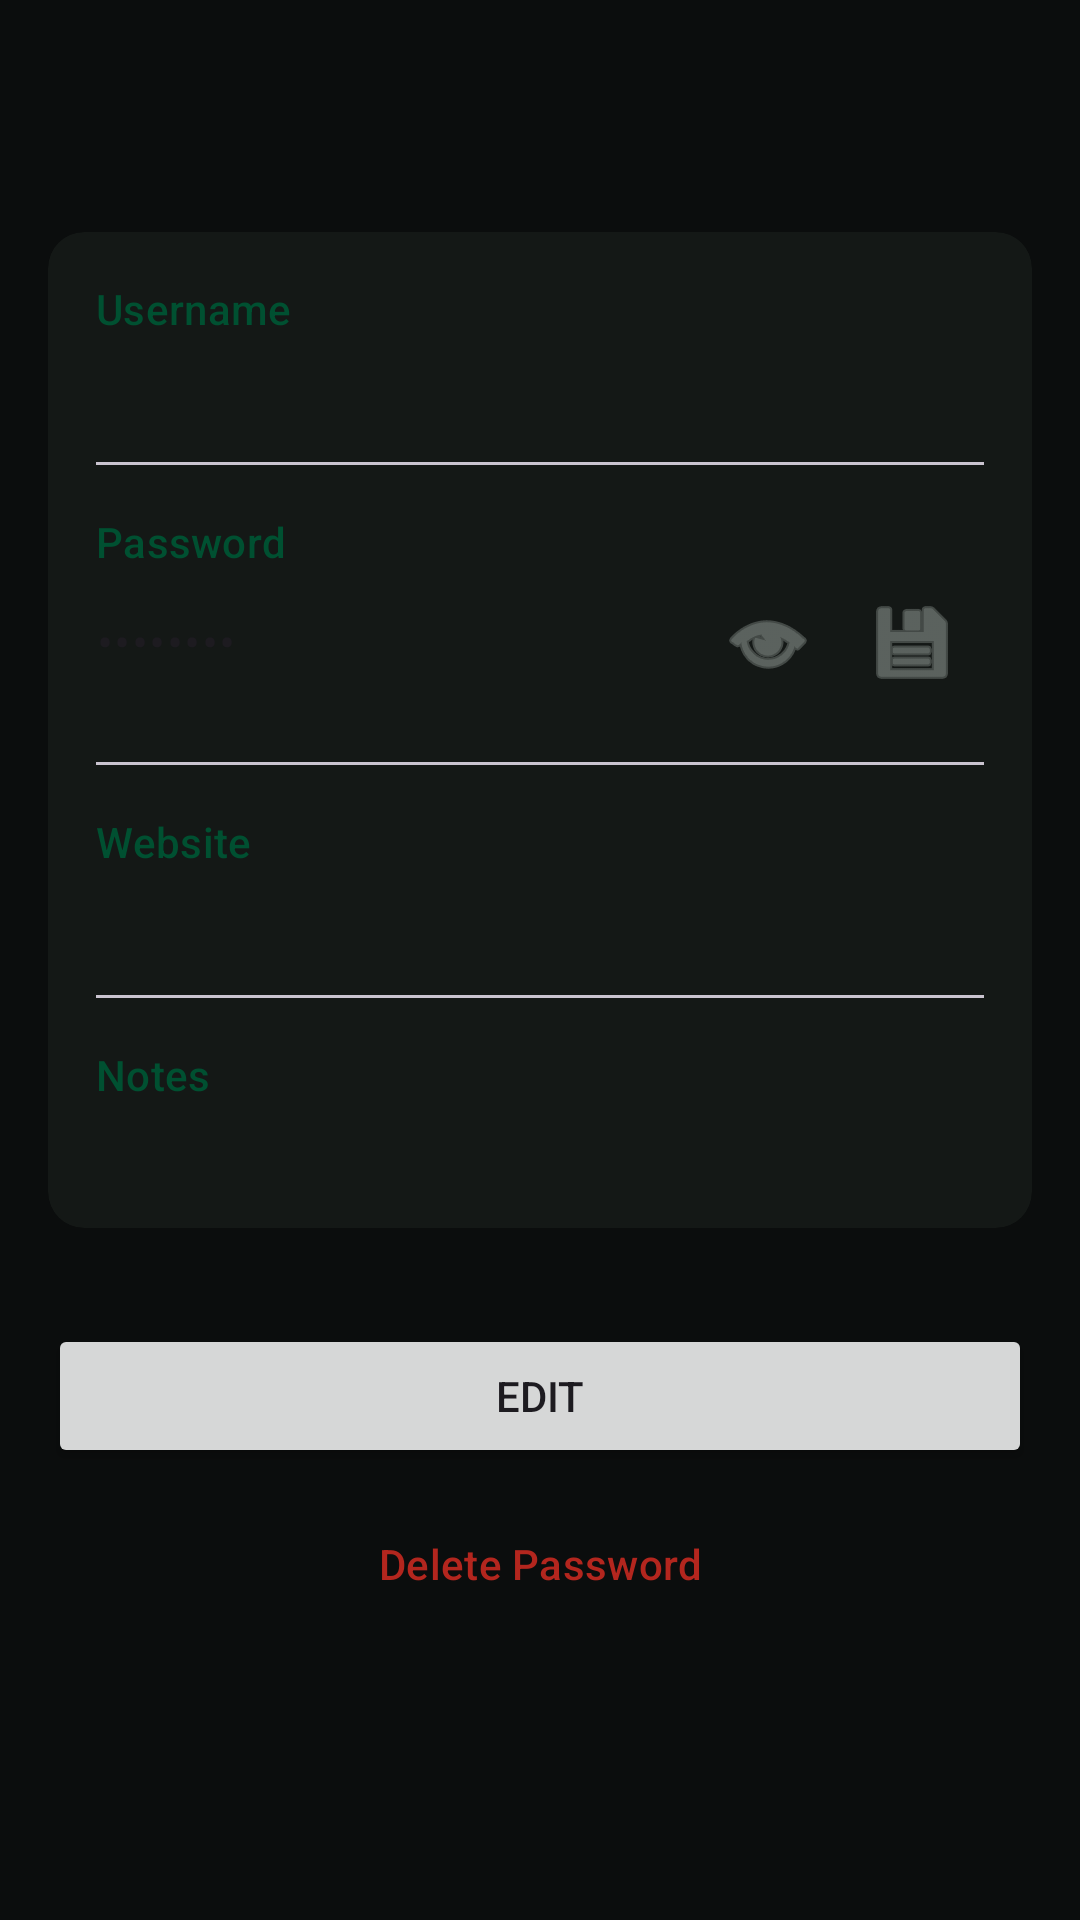

Where icons sit on this 1080 × 1920 app screen, as (x1, y1, x2, y2):
Peek Password: (729, 620, 807, 669)
